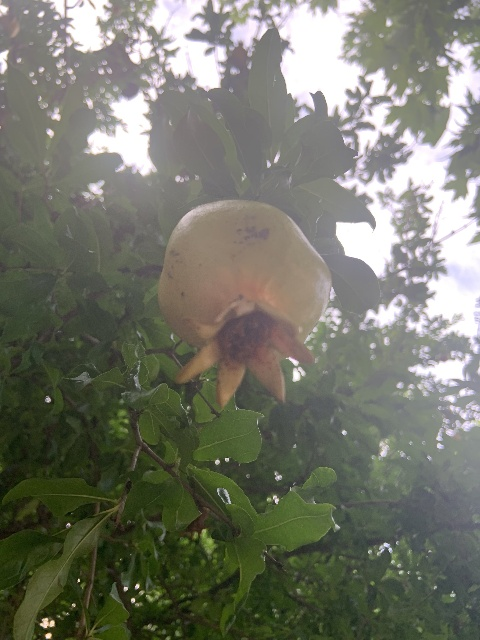mid-growth: (157, 199, 333, 409)
